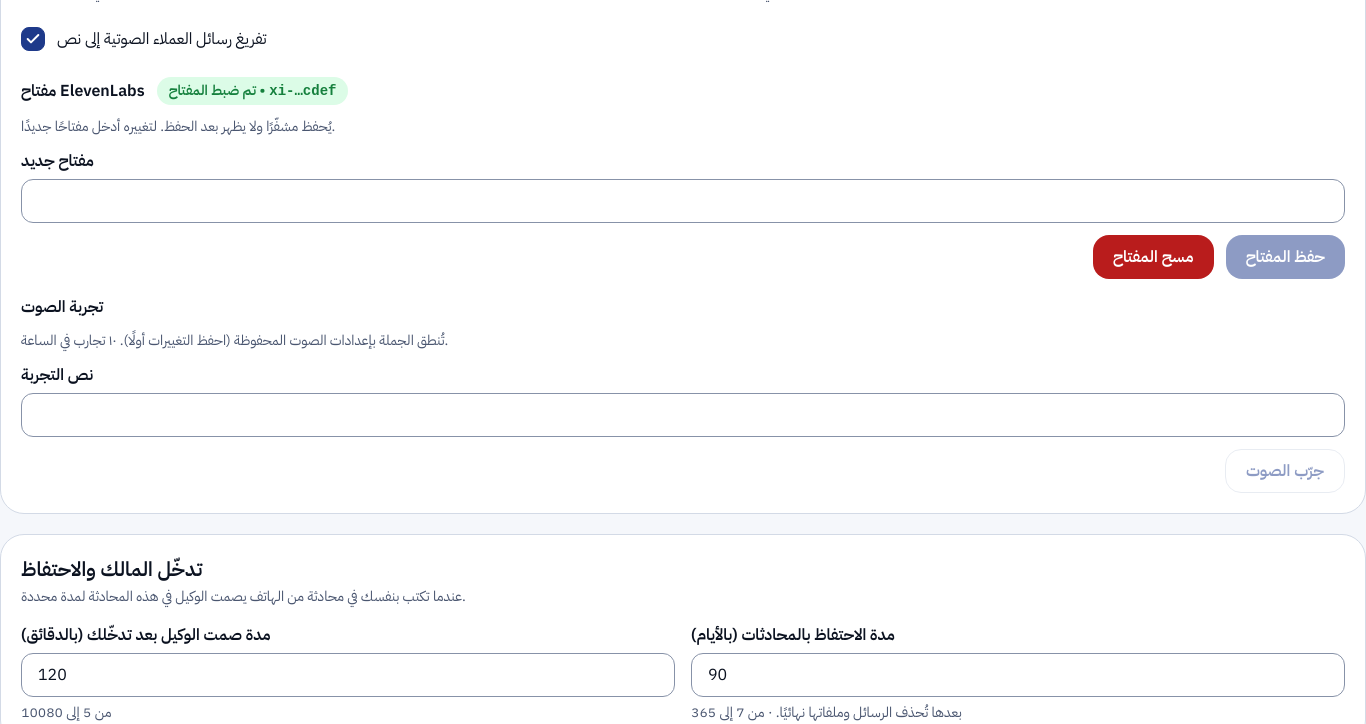
Test case: the Settings tab › a failed voice test › shows the specific reason voice_quota_exceeded and no reference
(page scrolled)
Type "hi" into the field labelled "نص التجربة" at (683, 415), box [21,393,1345,437]
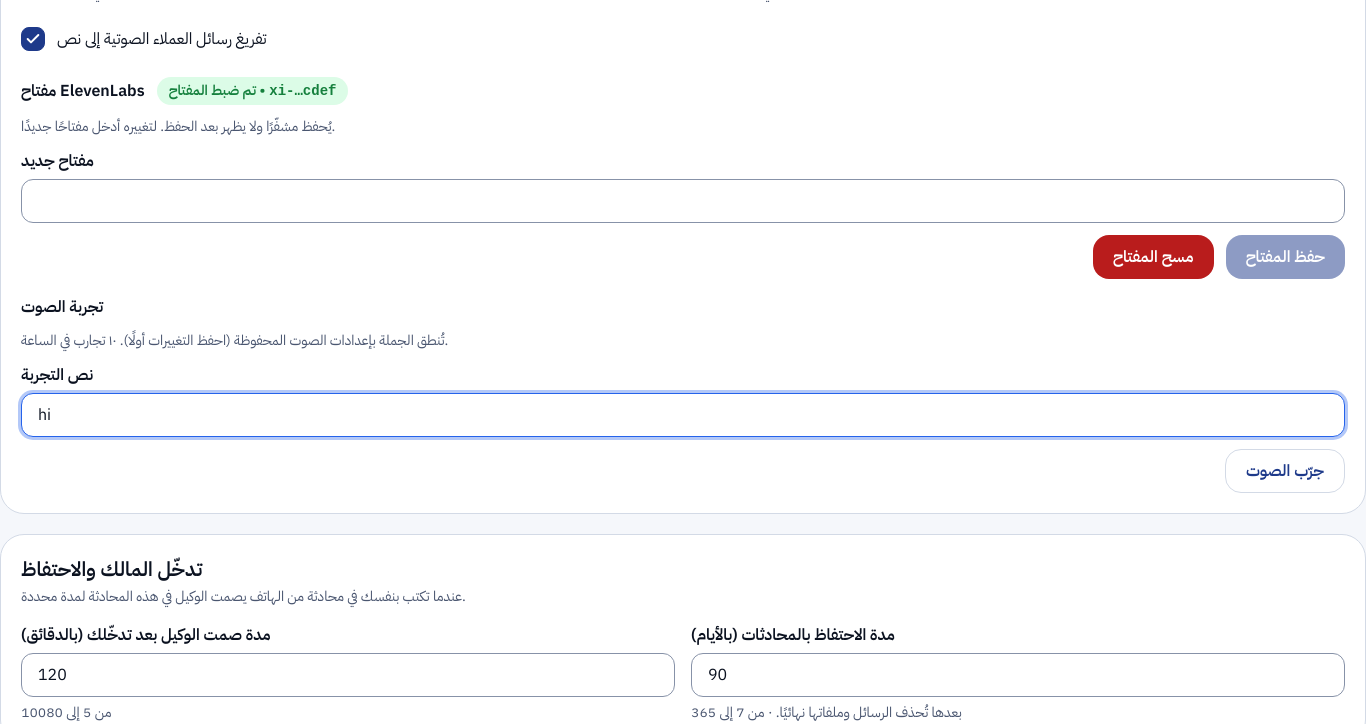
Click the button "جرّب الصوت" at (1285, 471), box [1225,449,1345,493]
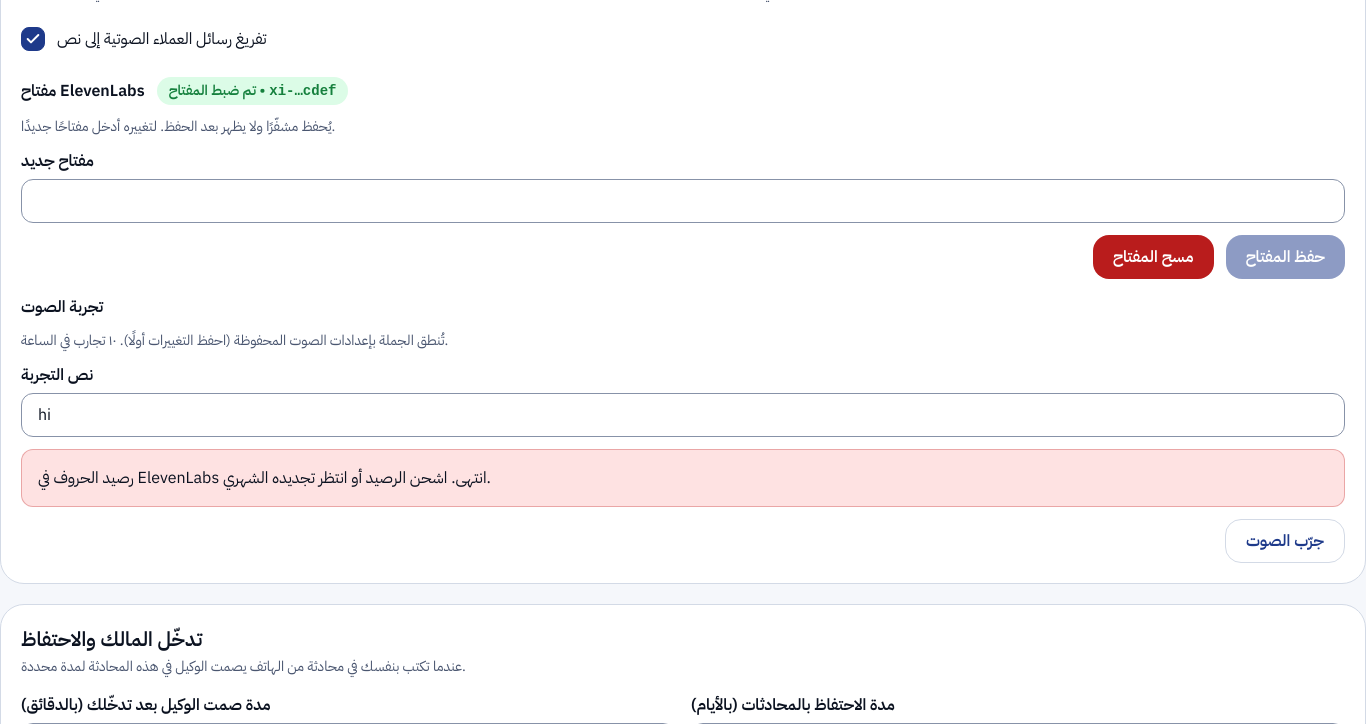
Now the message reads "رصيد الحروف في ElevenLabs انتهى. اشحن الرصيد أو انتظر تجديده الشهري.", box [38,466,491,490]
